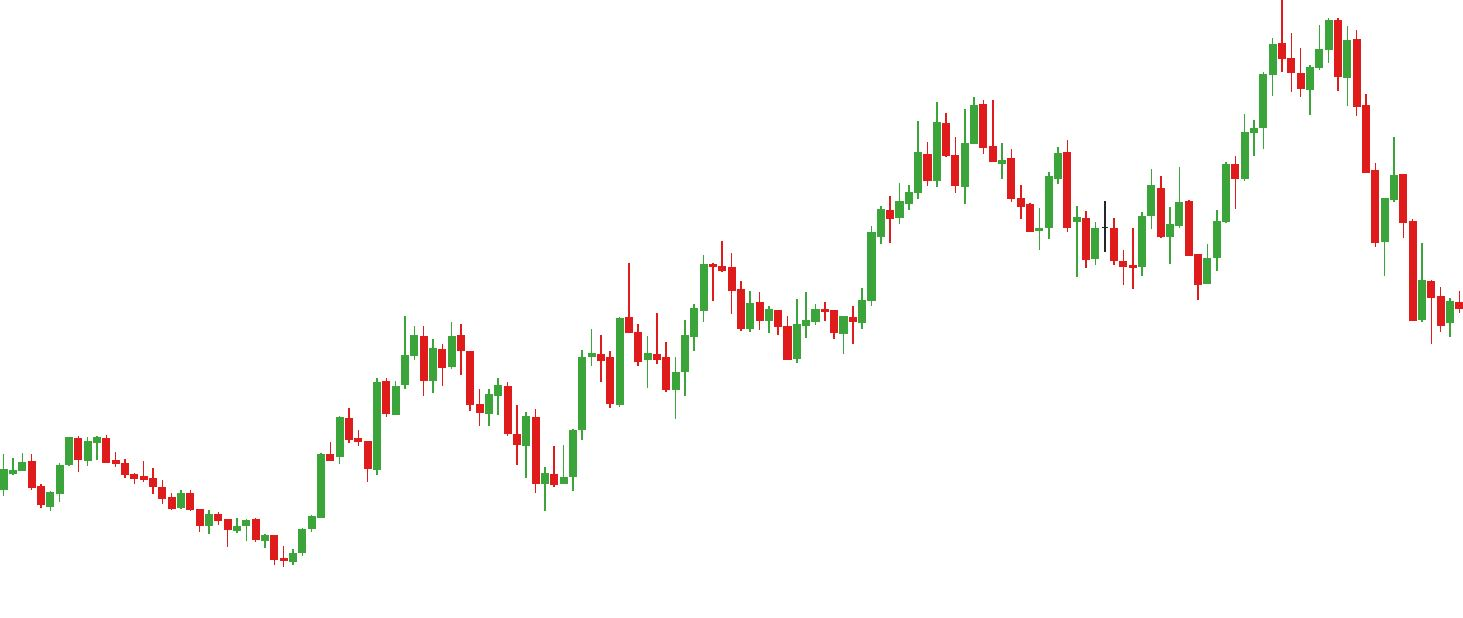buy: (1126, 213, 1214, 304), (606, 340, 681, 424)
sell: (932, 98, 987, 176)
